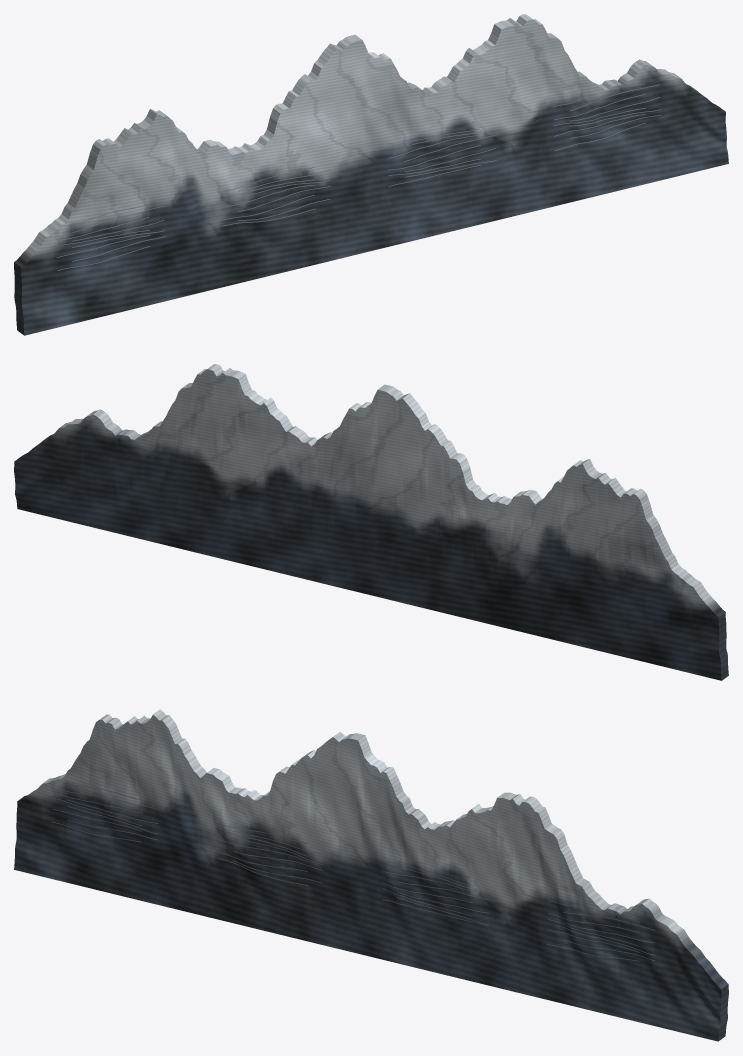
3 views of the same model, one above another, from view 1: azimuth 30°, elevation 25°; view 2: azimuth 150°, elevation 25°; view 3: azimuth 330°, elevation 25° (orthographic).
Visible parts, largest first — view 1: VIS_Ridge_Near_LOD0, VIS_Ridge_Near_Strata; view 2: VIS_Ridge_Near_LOD0; view 3: VIS_Ridge_Near_LOD0, VIS_Ridge_Near_Strata.
Part boxes in pixels (x1,y1,x2,y2): VIS_Ridge_Near_LOD0: (14, 14, 728, 335); VIS_Ridge_Near_Strata: (56, 83, 660, 270); VIS_Ridge_Near_LOD0: (14, 364, 728, 680); VIS_Ridge_Near_LOD0: (14, 709, 728, 1041); VIS_Ridge_Near_Strata: (52, 783, 655, 961).
Size of the model in its own units: 4800 by 1370 by 127.
Materials: 2 (1 with a texture image).
